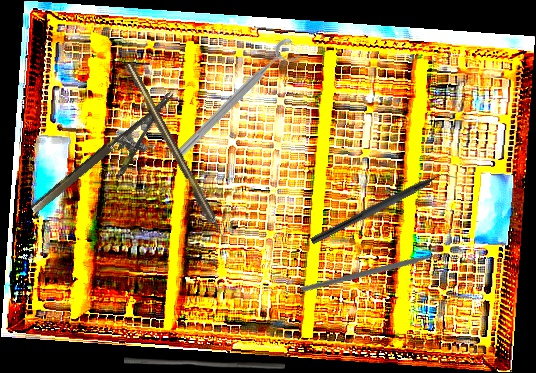Chopper: (300, 196, 457, 354), (310, 163, 459, 255)
Fixation Ring: (170, 35, 305, 170)
Hook Surgical: (124, 61, 230, 248)
Needle Holder: (28, 91, 193, 233)
Pusher: (124, 357, 285, 369)
